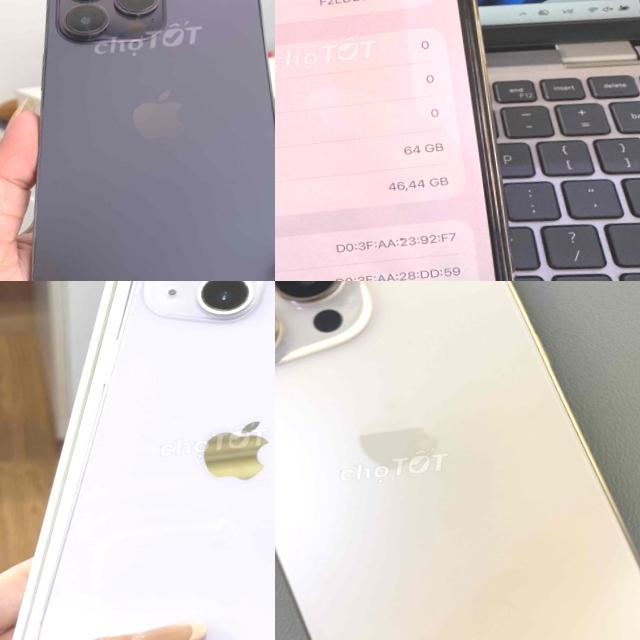gen_11: (275, 0, 528, 281)
gen_14: (0, 281, 275, 640), (0, 0, 275, 281)
gen_16: (275, 281, 640, 640)
